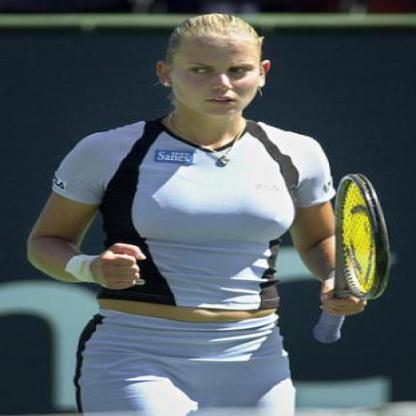face: (172, 20, 265, 120)
